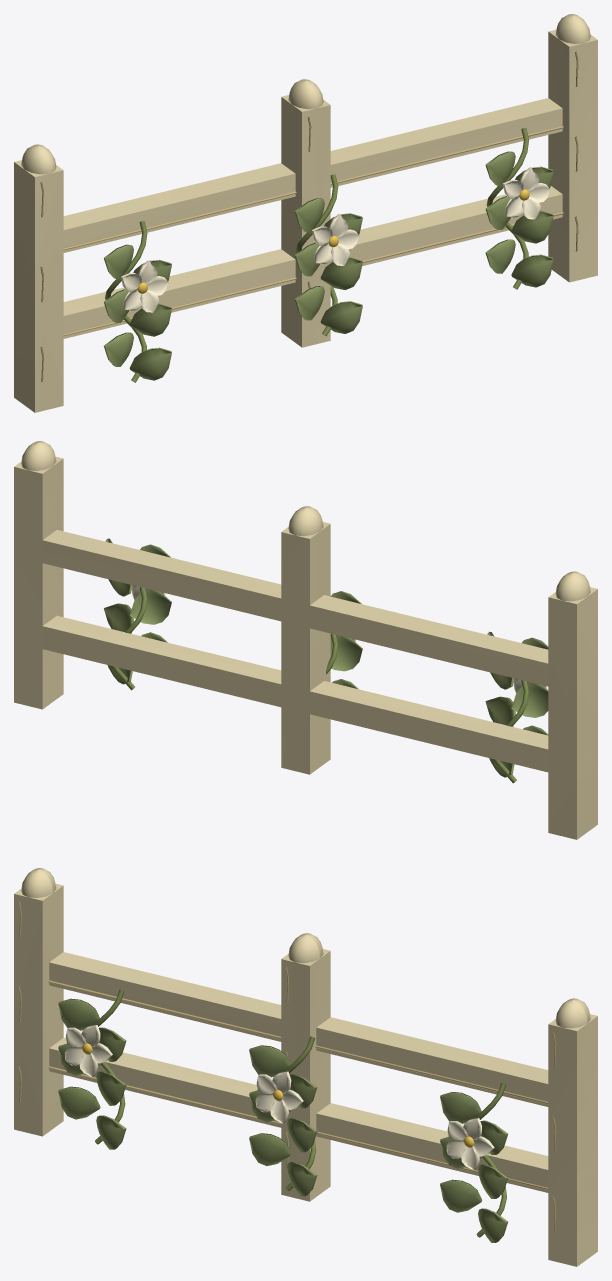
File: garden3d_fence.glb
The picture shows the model from 3 angles, top to bottom: view 1: azimuth 30°, elevation 25°; view 2: azimuth 150°, elevation 25°; view 3: azimuth 330°, elevation 25°; orthographic projection.
Parts seen in each view (by area): view 1: Fence / solid timber posts, Fence / rails, Fence / vine leaves, Fence / daisies / sculpted petals, Fence / rounded post caps, Fence / inset rail edge, Fence / climbing vines, Fence / wood grain relief; view 2: Fence / rails, Fence / solid timber posts, Fence / vine leaves, Fence / rounded post caps, Fence / climbing vines; view 3: Fence / solid timber posts, Fence / rails, Fence / vine leaves, Fence / daisies / sculpted petals, Fence / inset rail edge, Fence / rounded post caps, Fence / climbing vines, Fence / wood grain relief.
Boxes of the visible parts, x1,y1,x2,y2 form: Fence / solid timber posts: (14, 29, 597, 412); Fence / rails: (14, 98, 562, 346); Fence / vine leaves: (104, 151, 553, 380); Fence / daisies / sculpted petals: (121, 167, 550, 312); Fence / rounded post caps: (21, 14, 590, 174); Fence / inset rail edge: (63, 126, 563, 335); Fence / climbing vines: (105, 127, 528, 382); Fence / wood grain relief: (40, 51, 578, 381); Fence / rails: (14, 530, 591, 778); Fence / solid timber posts: (14, 456, 597, 839); Fence / vine leaves: (104, 544, 548, 777); Fence / rounded post caps: (21, 441, 590, 601); Fence / climbing vines: (105, 538, 528, 783); Fence / solid timber posts: (14, 883, 597, 1266); Fence / rails: (49, 952, 597, 1196); Fence / vine leaves: (58, 998, 507, 1242); Fence / daisies / sculpted petals: (64, 1025, 494, 1169); Fence / inset rail edge: (48, 980, 548, 1189); Fence / rounded post caps: (21, 868, 590, 1028); Fence / climbing vines: (92, 990, 506, 1237); Fence / wood grain relief: (18, 901, 556, 1232).
Size of the model in its own units: 5.9 by 2.56 by 0.7669.
